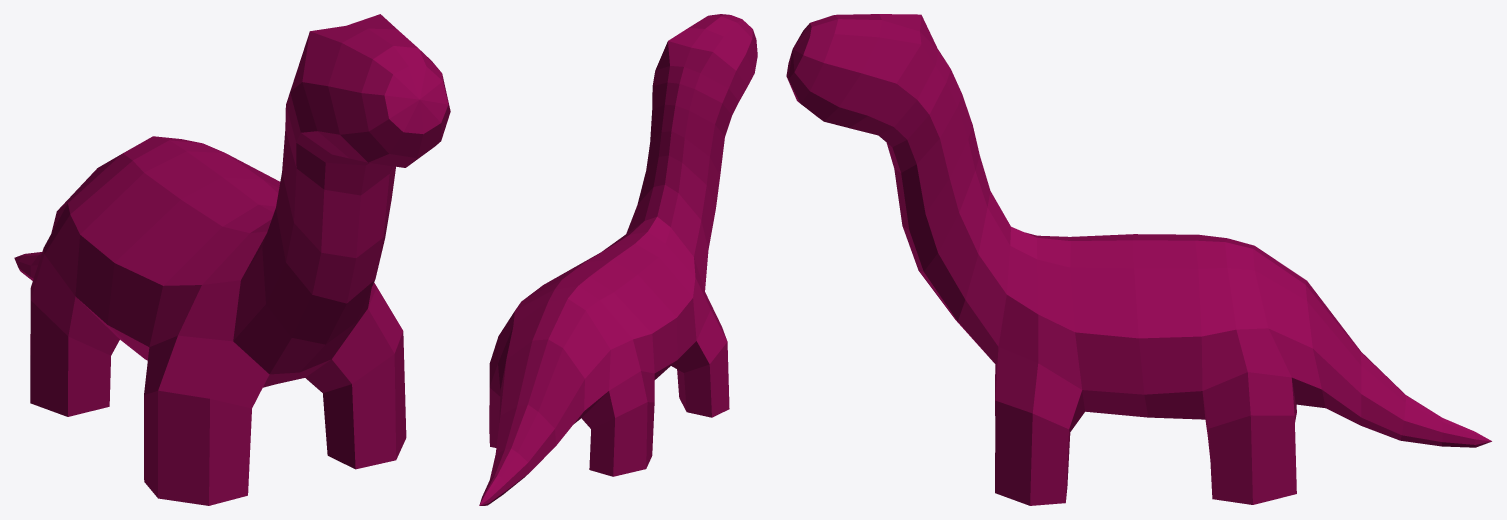
File: dino.glb
3 renders of one model, left to right at view 1: azimuth 30°, elevation 25°; view 2: azimuth 150°, elevation 25°; view 3: azimuth 270°, elevation 25°, orthographic. The views are drawn at different scales.
Visible parts, largest first — view 1: Plane; view 2: Plane; view 3: Plane.
Part boxes in pixels (x1,y1,x2,y2): Plane: [14, 14, 450, 505]; Plane: [479, 14, 757, 505]; Plane: [786, 14, 1491, 505].
Bounding box in the file's own units: 3.59 × 6.96 × 10.25.
